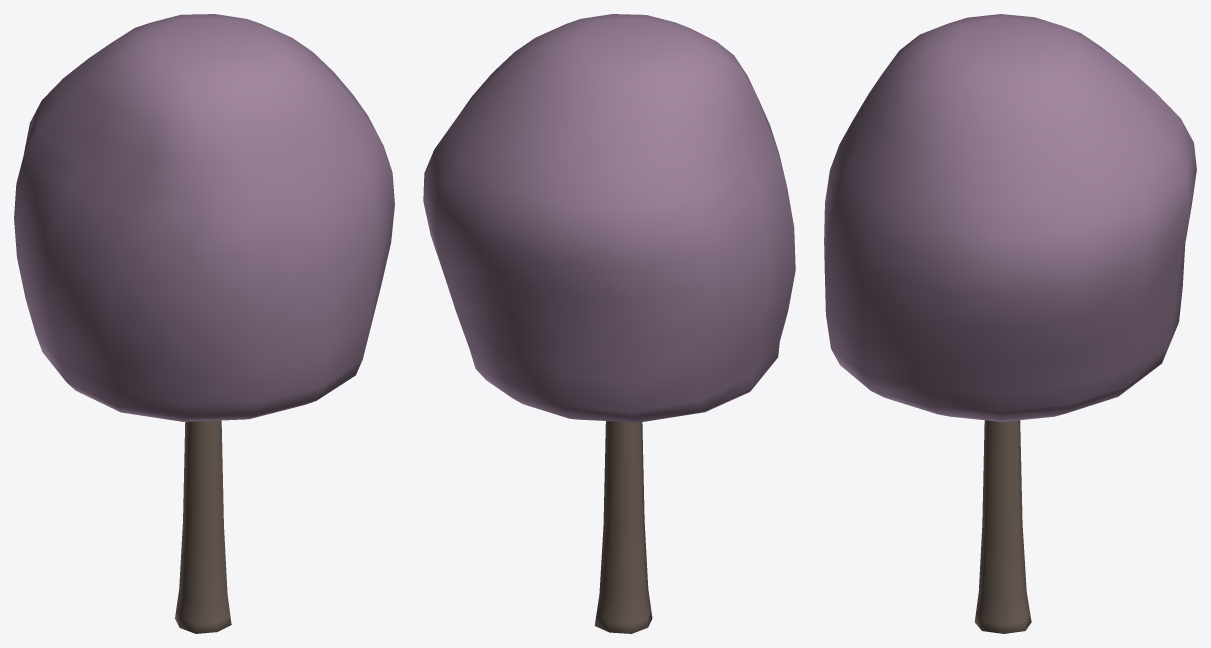
File: Tree_Round_Pink.fbx
3 views of the same model, side by side, from view 1: azimuth 30°, elevation 25°; view 2: azimuth 150°, elevation 25°; view 3: azimuth 270°, elevation 25° (orthographic).
Visible parts, largest first — view 1: Leaves, Trunk; view 2: Leaves, Trunk; view 3: Leaves, Trunk.
Part boxes in pixels (x1=…): Leaves: x1=14, y1=14, x2=394, y2=421; Trunk: x1=175, y1=420, x2=231, y2=633; Leaves: x1=423, y1=14, x2=795, y2=422; Trunk: x1=594, y1=421, x2=652, y2=633; Leaves: x1=824, y1=14, x2=1196, y2=421; Trunk: x1=974, y1=420, x2=1031, y2=633.
Bounding box in the file's own units: 1.06 × 1.84 × 1.05.
